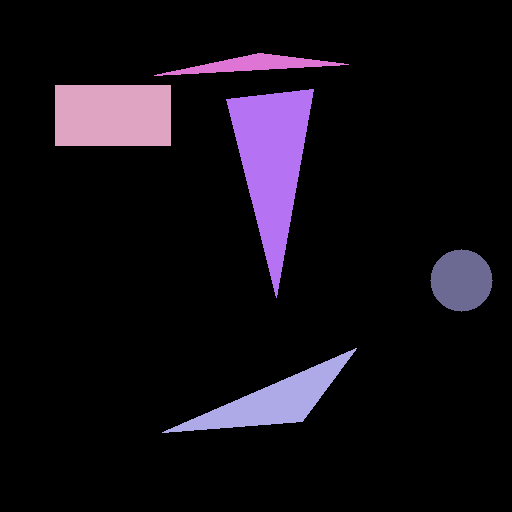circle: (430, 249, 492, 311)
rectangle: (55, 85, 170, 145)
triangle: (226, 89, 313, 297), (162, 348, 356, 432), (154, 53, 348, 75)
